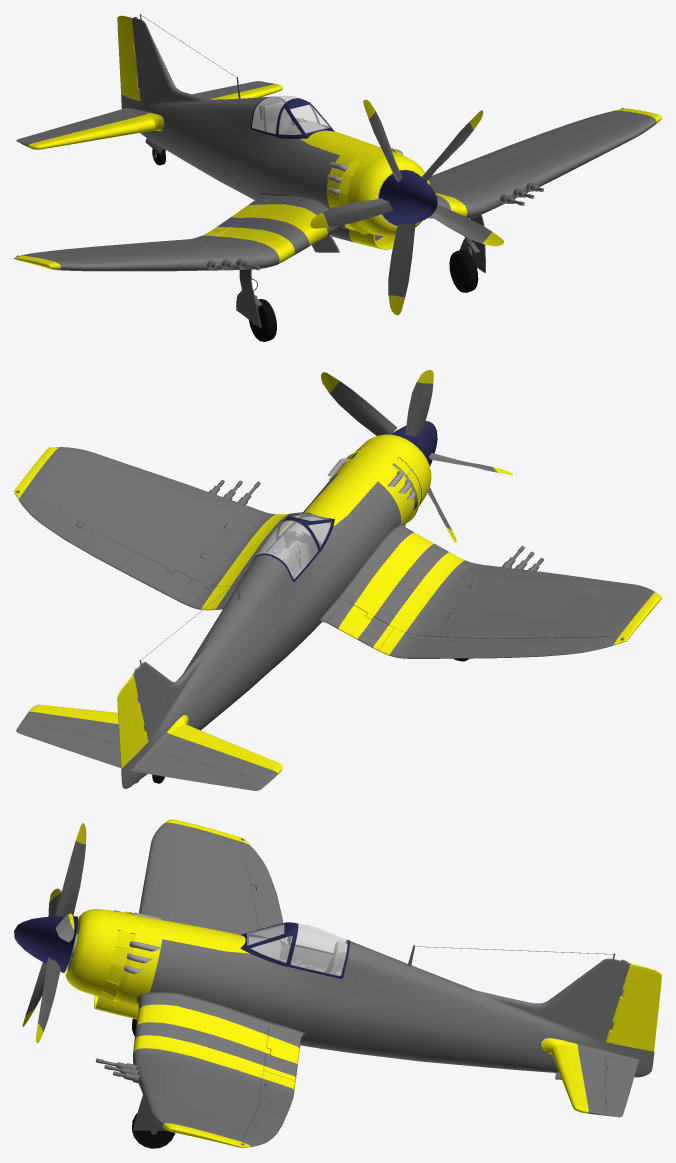
The model's file is warplane.glb.
3 views of the same model, one above another, from view 1: azimuth 30°, elevation 25°; view 2: azimuth 150°, elevation 25°; view 3: azimuth 270°, elevation 25° (orthographic). The views are drawn at different scales.
Visible parts, largest first — view 1: body_5, Wings_8, fan_1, Window_6, tires_3, Engine_0, Legs_7, Window_Strip_4, Gun_barrel_2; view 2: Wings_8, body_5, fan_1, Window_6, Engine_0, Window_Strip_4, Gun_barrel_2; view 3: body_5, Wings_8, fan_1, Window_6, Engine_0, Window_Strip_4, tires_3, Legs_7, Gun_barrel_2.
Part boxes in pixels (<box>): body_5: <box>16,14,430,249</box>; Wings_8: <box>14,108,661,271</box>; fan_1: <box>310,99,504,315</box>; Window_6: <box>252,95,330,134</box>; tires_3: <box>152,148,478,341</box>; Engine_0: <box>252,97,402,225</box>; Legs_7: <box>153,149,485,327</box>; Window_Strip_4: <box>250,96,334,138</box>; Gun_barrel_2: <box>207,182,543,270</box>; Wings_8: <box>14,447,661,658</box>; body_5: <box>16,434,431,790</box>; fan_1: <box>321,370,513,542</box>; Window_6: <box>255,513,330,578</box>; Engine_0: <box>264,458,417,578</box>; Window_Strip_4: <box>254,512,334,582</box>; Gun_barrel_2: <box>209,480,543,570</box>; body_5: <box>65,909,661,1117</box>; Wings_8: <box>133,819,561,1147</box>; fan_1: <box>14,823,86,1042</box>; Window_6: <box>247,923,347,976</box>; Engine_0: <box>67,913,347,975</box>; Window_Strip_4: <box>240,922,349,978</box>; tires_3: <box>132,1018,175,1148</box>; Legs_7: <box>133,1095,167,1134</box>; Gun_barrel_2: <box>95,910,140,1083</box>.
Size of the model in its own units: 33.77 by 13.05 by 29.89.
